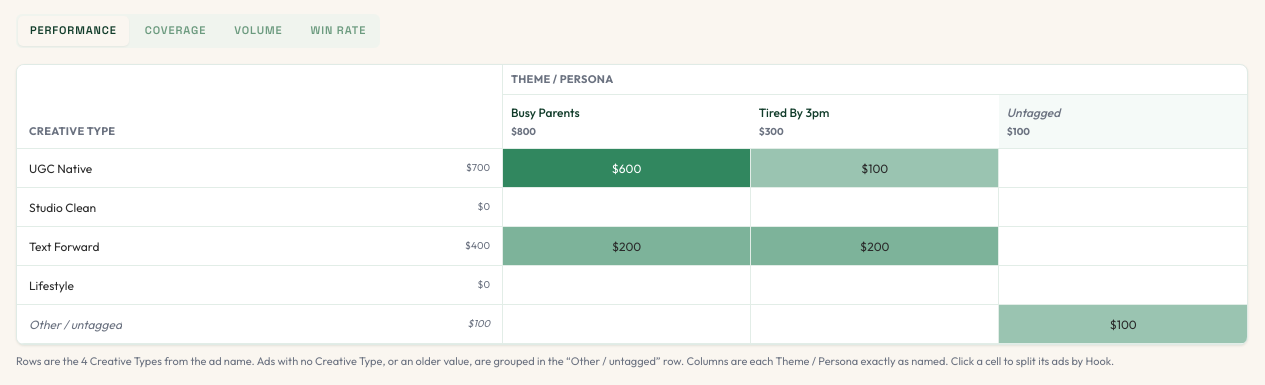
US-007: builder board renders spend-ranked cells and mode toggles switch views (e2e 1) › shows spend in performance mode, then switches to volume and win rate
Expected: the text "Busy Parents" is shown, [511,105,580,120]
Expected: the button "$600" is shown, [503,149,750,187]
Volume: cell display switches to the ad count (5 ads in the top cell).
Step 1. Click the button "Volume" → click(258, 31), box [222,16,295,46]
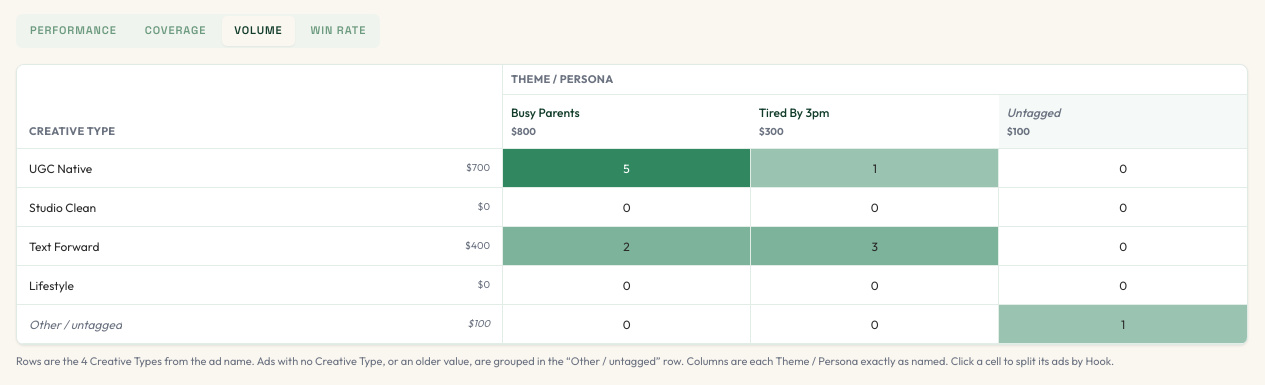
Expected: the button "5" is shown, [503,149,750,187]
Result: the button "$600" is gone
Step 2. Click the button "Win rate" → click(338, 31), box [298,16,378,46]
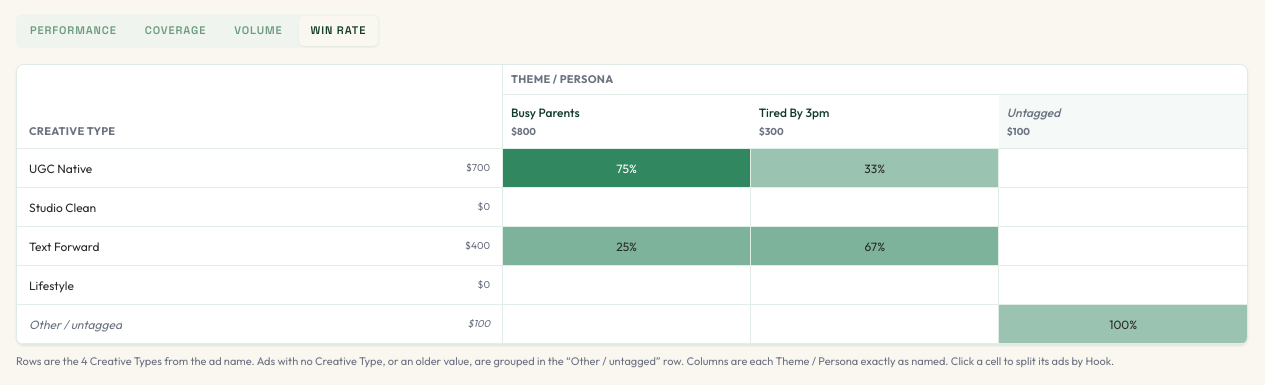
Result: the button "75%" is shown at [503,149,750,187]
